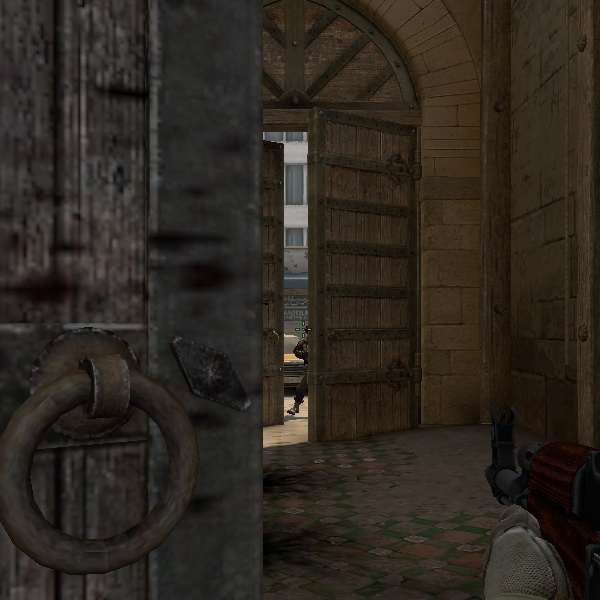t_body: (281, 331, 315, 416)
